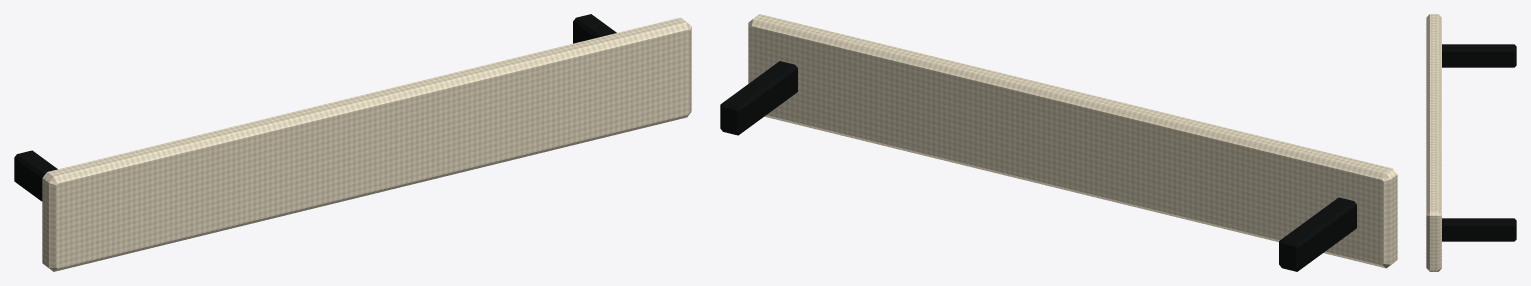
File: picnic_bench_189.obj
3 renders of one model, left to right at view 1: azimuth 30°, elevation 25°; view 2: azimuth 150°, elevation 25°; view 3: azimuth 270°, elevation 25°, orthographic. The views are drawn at different scales.
Visible parts, largest first — view 1: picnic_bench_189_linen, picnic_bench_189_frame; view 2: picnic_bench_189_linen, picnic_bench_189_frame; view 3: picnic_bench_189_linen, picnic_bench_189_frame.
Boxes of the visible parts, x1,y1,x2,y2 form: picnic_bench_189_linen: (42,17,691,271); picnic_bench_189_frame: (14,14,616,201); picnic_bench_189_linen: (748,14,1397,268); picnic_bench_189_frame: (720,61,1356,271); picnic_bench_189_linen: (1426,14,1441,271); picnic_bench_189_frame: (1442,44,1516,241).
Bounding box in the file's own units: 92 × 13 × 17.5.
Materials: 2 (2 with a texture image).
